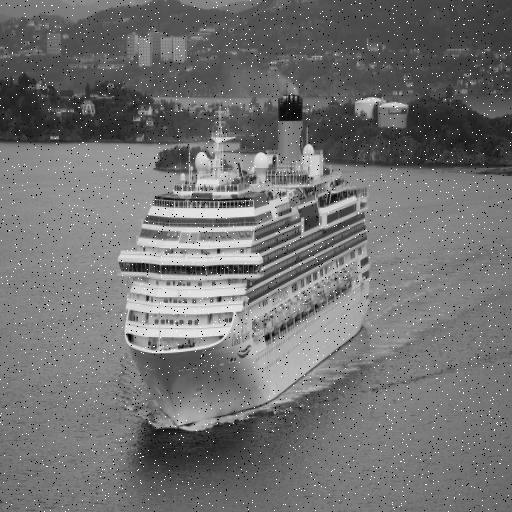cruises: (117, 92, 376, 433)
